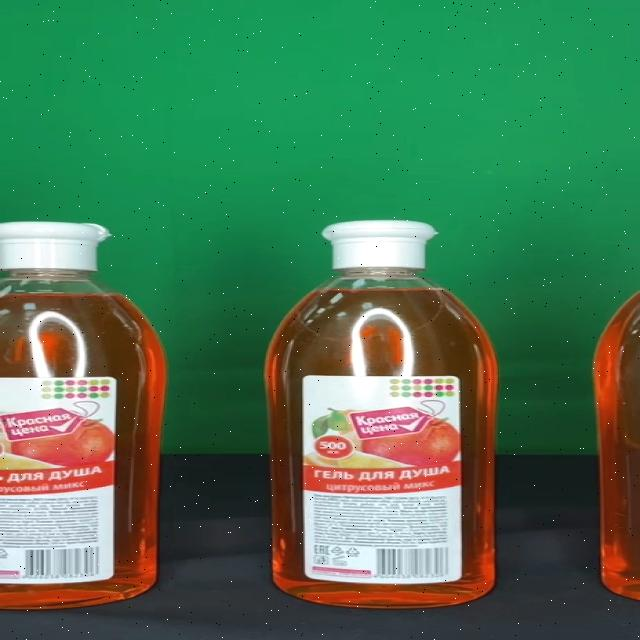Bottle: (262, 221, 498, 609)
Cap: (322, 222, 440, 268)
